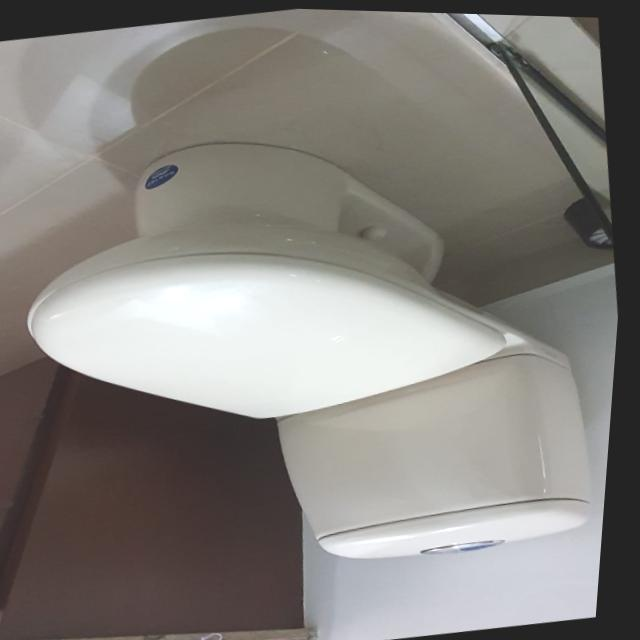toilet: (0, 88, 628, 611)
